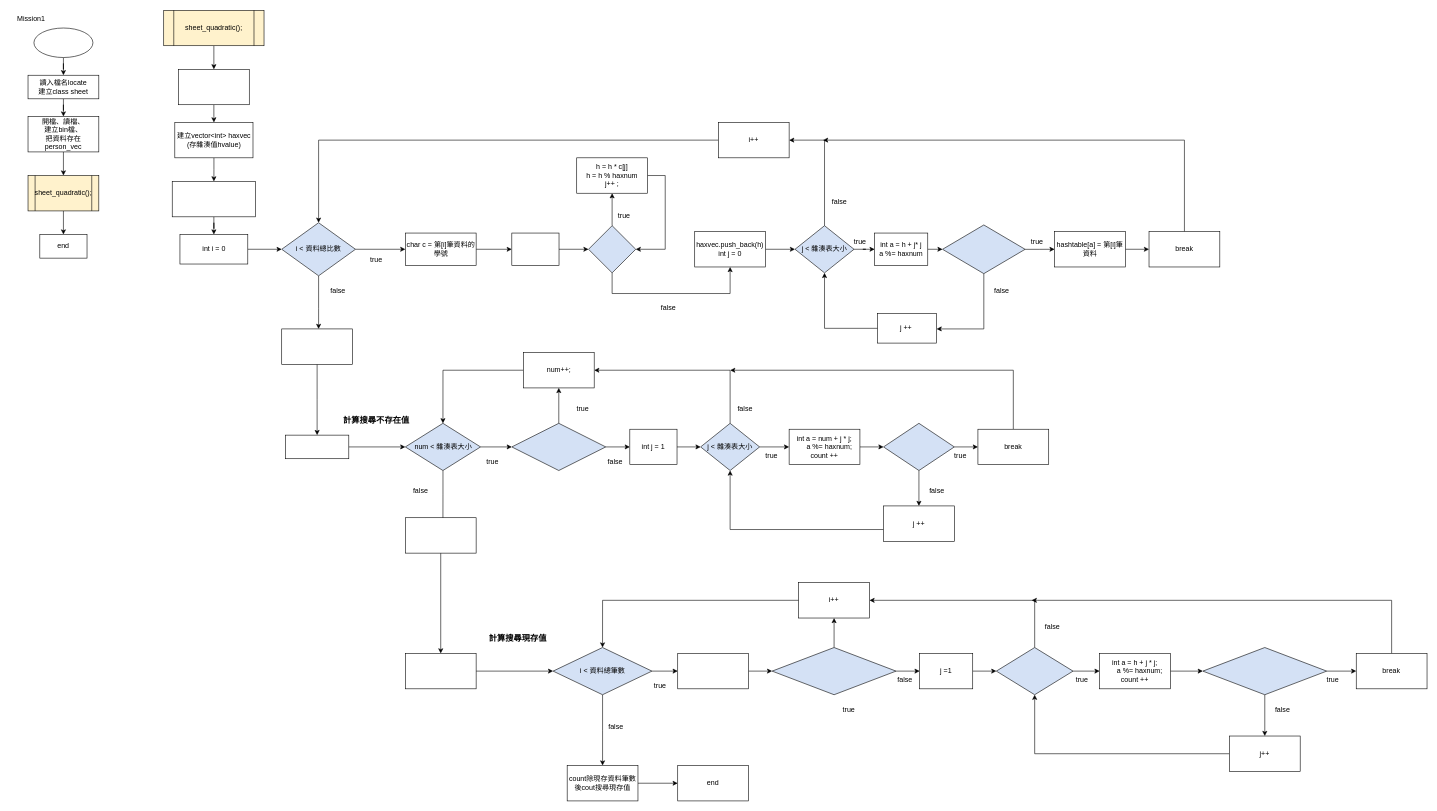
The diagram is 1437 pixels wide and 811 high, and some of its shapes have lost their labels. Each missing label, with the centre of its shape:
count除雜湊表大小後 取小數點後四位 cout搜尋不存在值: pixel 440 535
hashtable[a]的 雜湊值 == - 1 表示此格沒東西: pixel 983 249
hashtable[a]的 雜湊值 == -1: pixel 918 447
hashtable[a]的學號== person_vec[i]的學號: pixel 1264 671
hashtable[h]的學號== person_vec[i]的學號: pixel 834 671
hashtable[num]的 雜湊值 == -1: pixel 558 447
haxnum = gethaxnum(); 取雜湊表大小: pixel 213 87
int count = 0; int i = 0;: pixel 440 671
int count = 0; int num = 0;: pixel 317 447
int h = 1 int j = 0: pixel 535 249
int h = haxvec[i] count ++: pixel 713 671
j < 10 && c[j] != '\0': pixel 612 249
j < haxnum: pixel 1034 671
start: pixel 63 42
建檔quadraticXXX.txt 並寫檔: pixel 317 346
建立vector<tuple> hashtable( "", "", 0.0, -1 ): pixel 214 199
